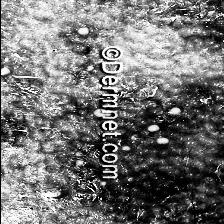Toxin: (120, 105, 182, 155), (71, 23, 91, 44), (40, 188, 62, 202), (0, 64, 12, 80), (90, 107, 100, 121)
